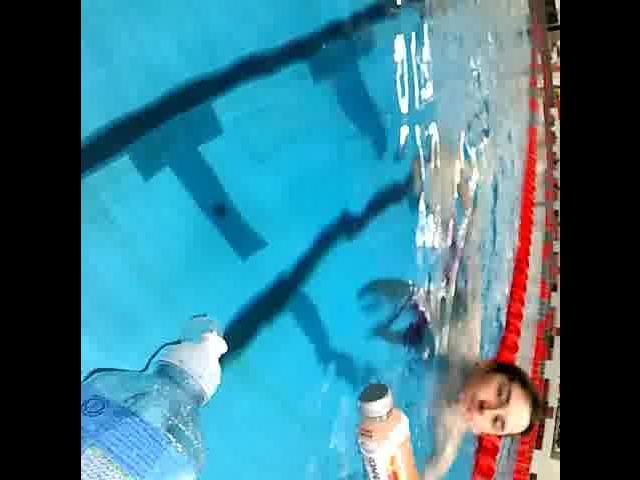Bottle: (80, 324, 238, 480), (348, 379, 422, 480)
